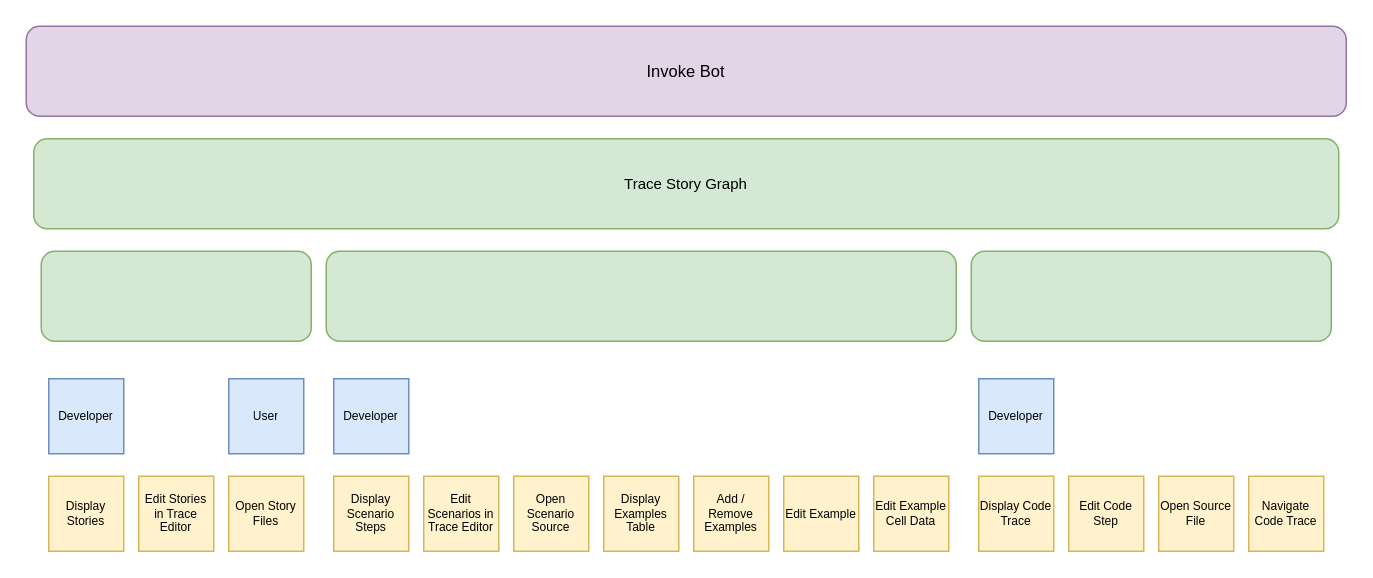
Some shapes in this 1373 by 578 pixel diagram are drawn without their labels. The shapes that lost their labels are listed below. From the top down, each one's box as (x1, y1, x2, y2) in pixels, then its label:
(40, 250, 311, 341): Trace Story
(325, 250, 956, 341): Trace Scenario
(970, 250, 1331, 341): Trace Code
